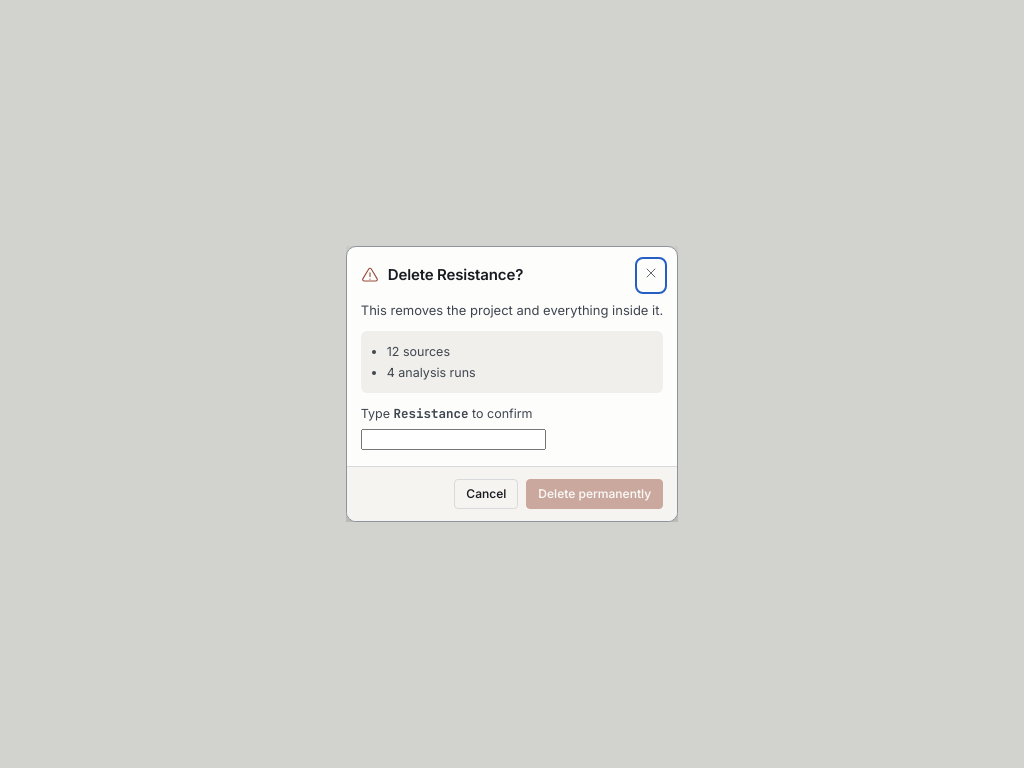
the confirmation before something irreversible › keeps the destructive button disabled until the name is typed exactly
This screenshot has width=1024, height=768.
Check: the button "Delete permanently" is disabled, box 526,479 -> 663,509
Type "Resistan" into the field labelled "Type Resistance to confirm" at (453, 440), box 361,429 -> 546,450
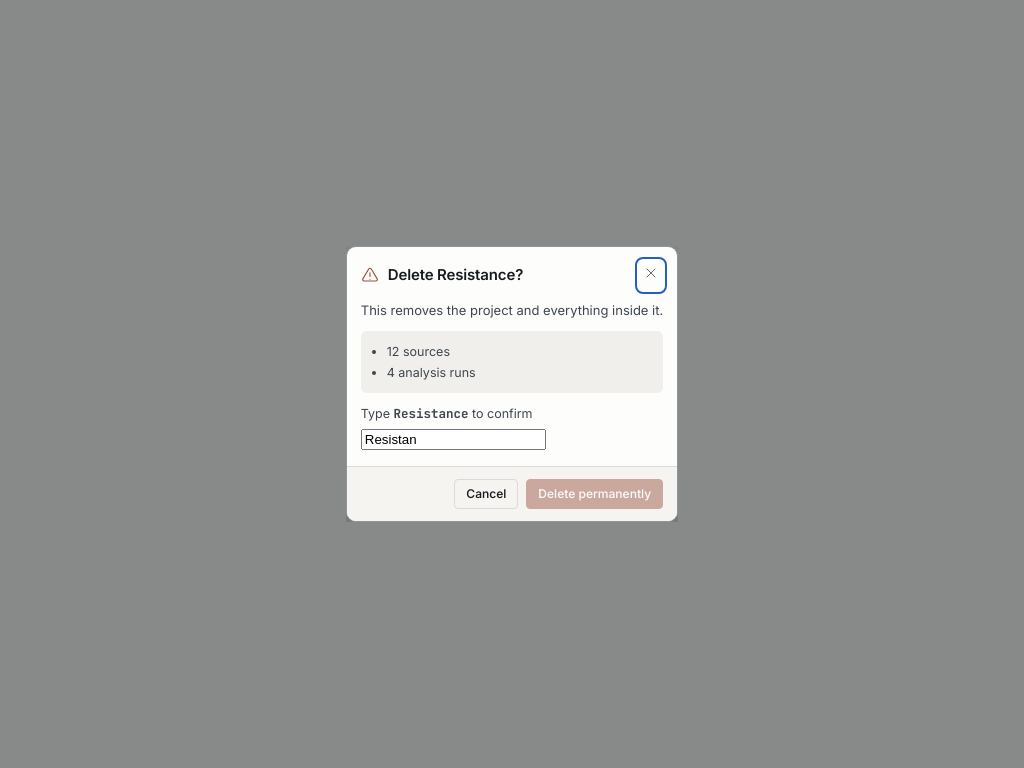
Check: the button "Delete permanently" is disabled, box 526,479 -> 663,509
Replace the text in the field labelled "Type Resistance to confirm" with "Resistance" at (453, 440), box 361,429 -> 546,450
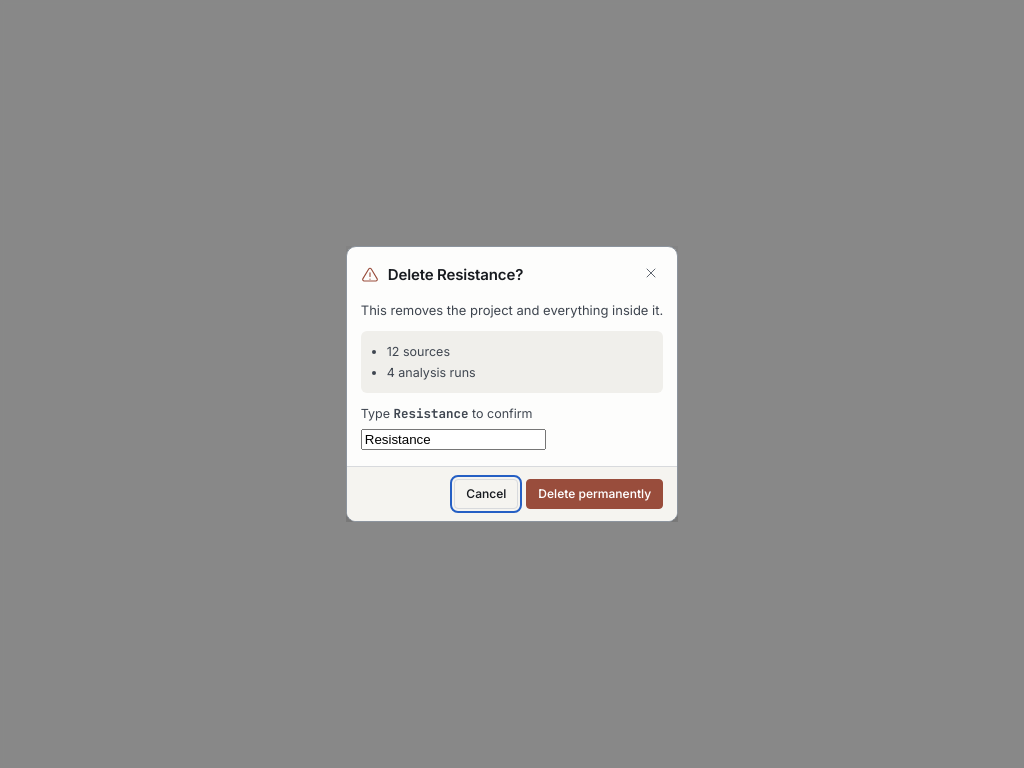
Check: the button "Delete permanently" is enabled, box 526,479 -> 663,509
